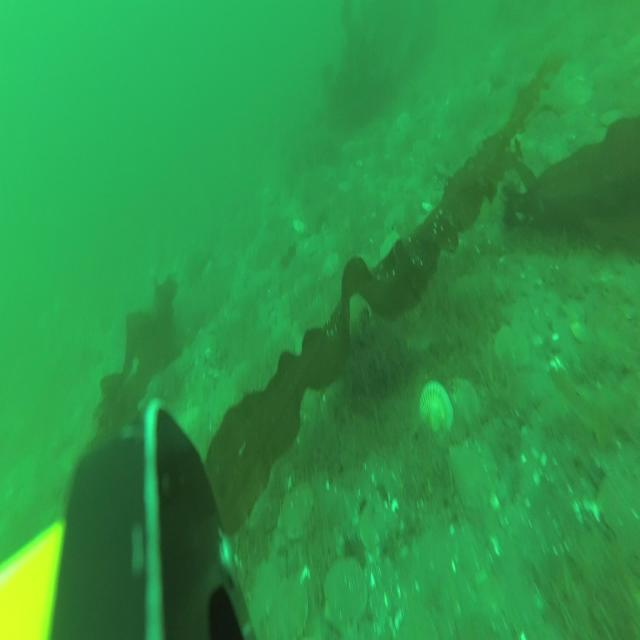scallop: (450, 443, 500, 511), (323, 561, 367, 629), (267, 579, 309, 640), (360, 496, 394, 557), (247, 562, 280, 621), (494, 325, 532, 374), (279, 485, 312, 539), (420, 379, 450, 432), (449, 377, 478, 430), (321, 253, 341, 282), (380, 234, 399, 264)
